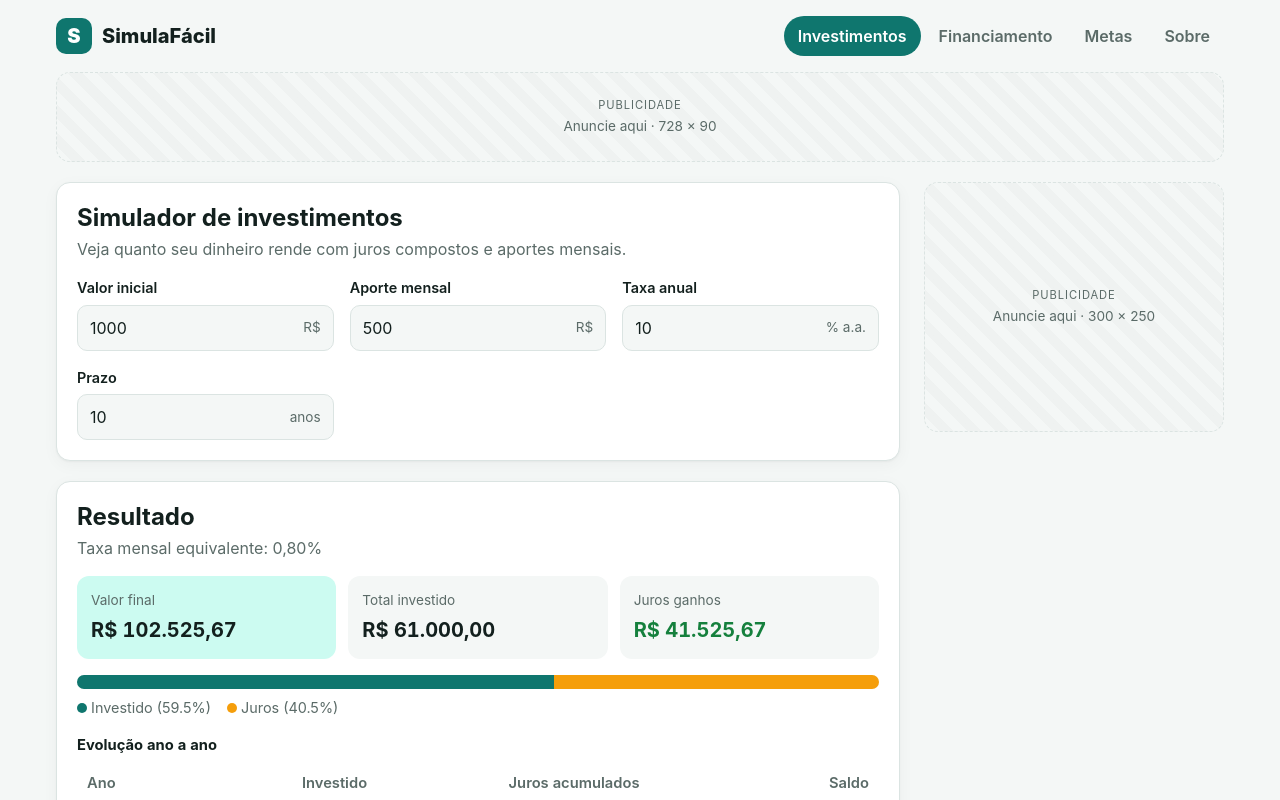
Test case: Simulador de investimentos › recalcula quando o usuário altera um campo
Replace the text in the field labelled "Aporte mensal" with "0": (457, 328) [351,306,564,350]
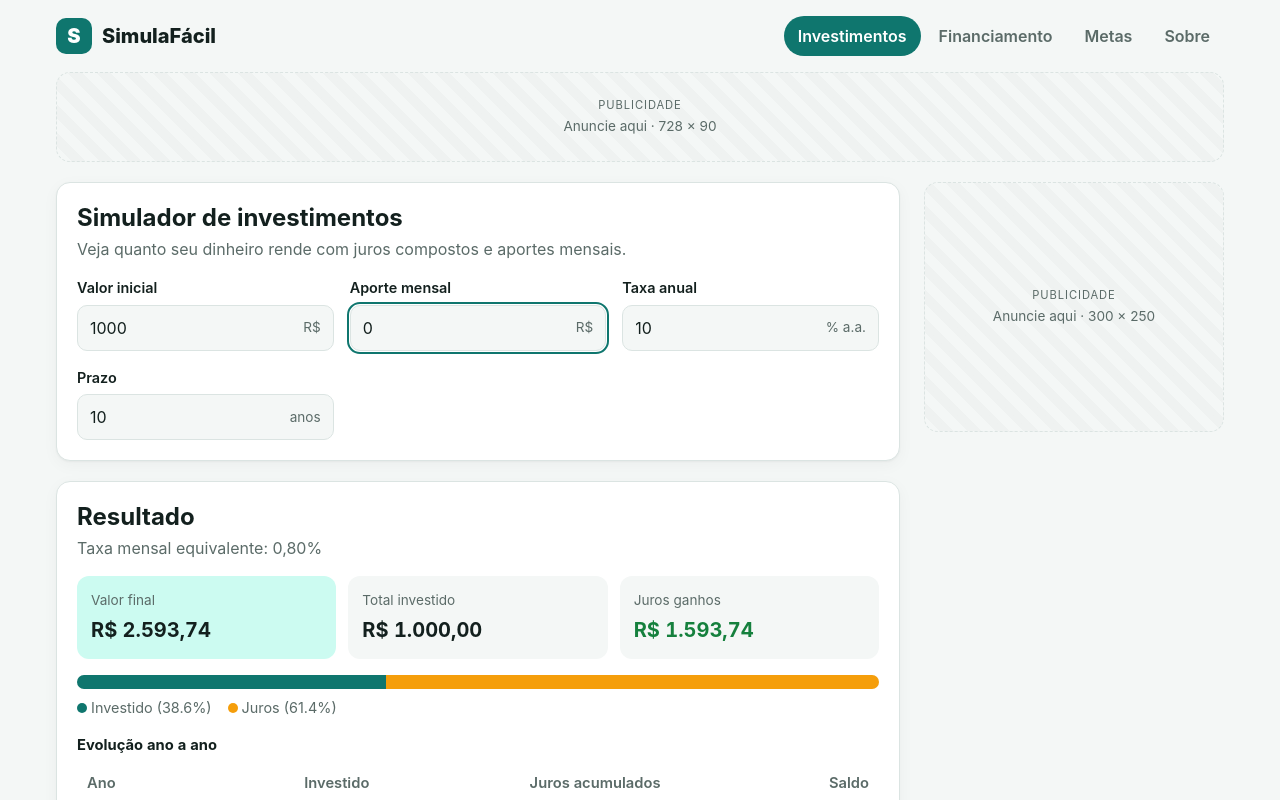
Replace the text in the field labelled "Taxa anual" with "0": (718, 328) [623,306,814,350]
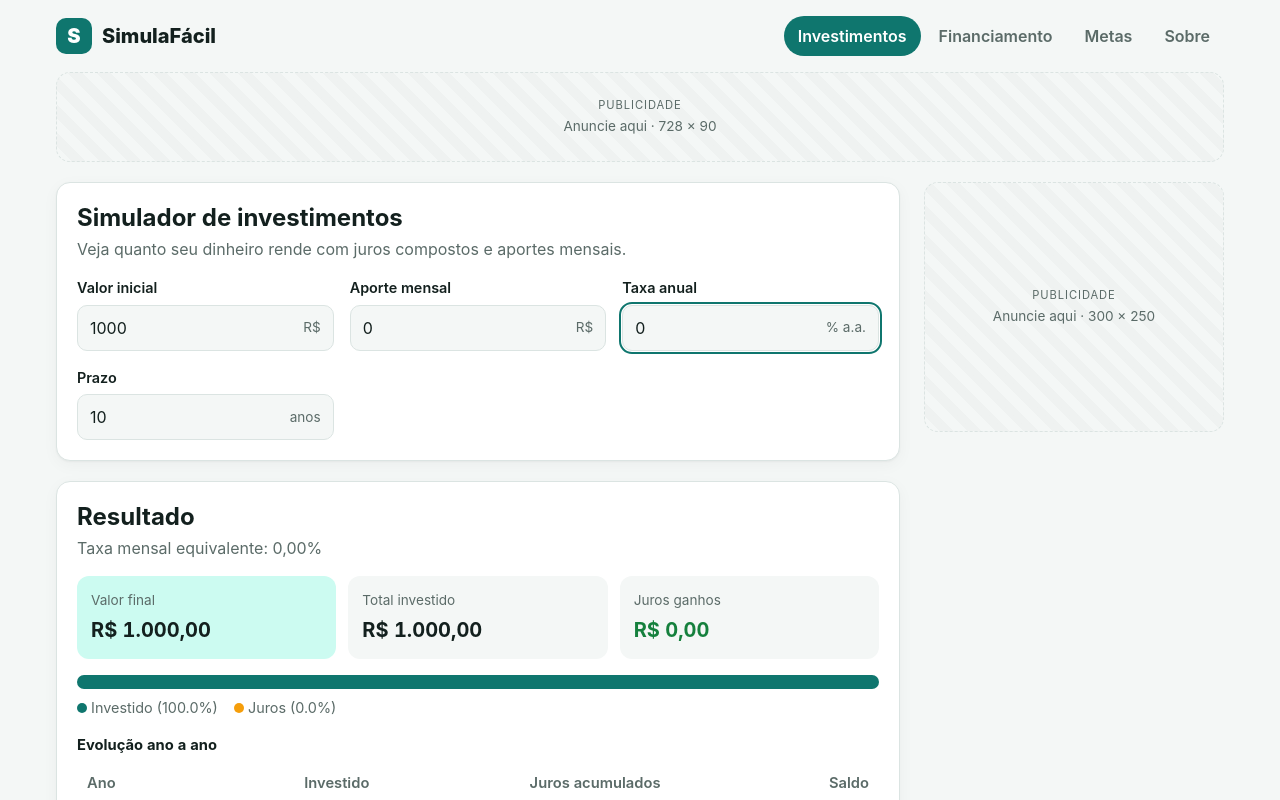
Expected: the text with test id "inv-final" reads "R$ 1.000,00", [91,618,211,642]
Expected: the text with test id "inv-interest" reads "R$ 0,00", [634,618,710,642]
